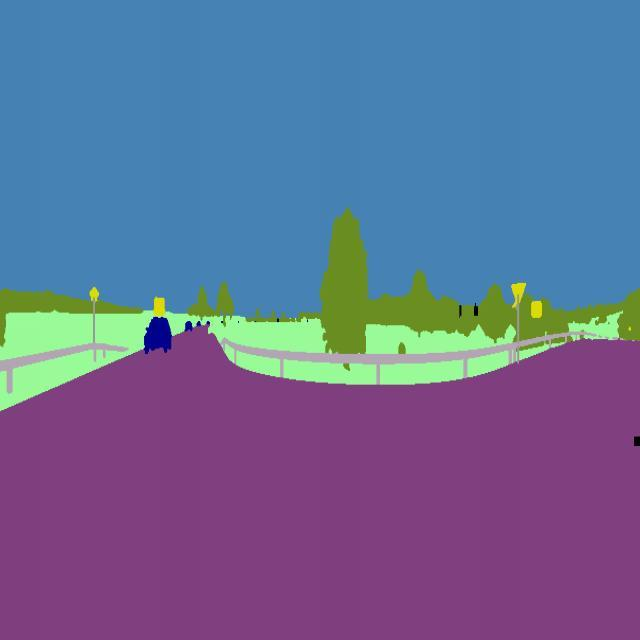safe: (138, 310, 178, 363), (182, 318, 196, 334)
